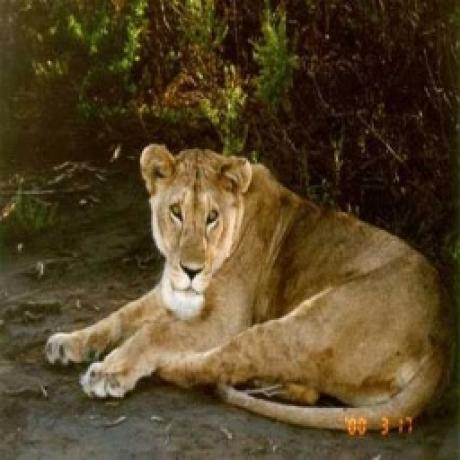Lion: (40, 142, 456, 438)
